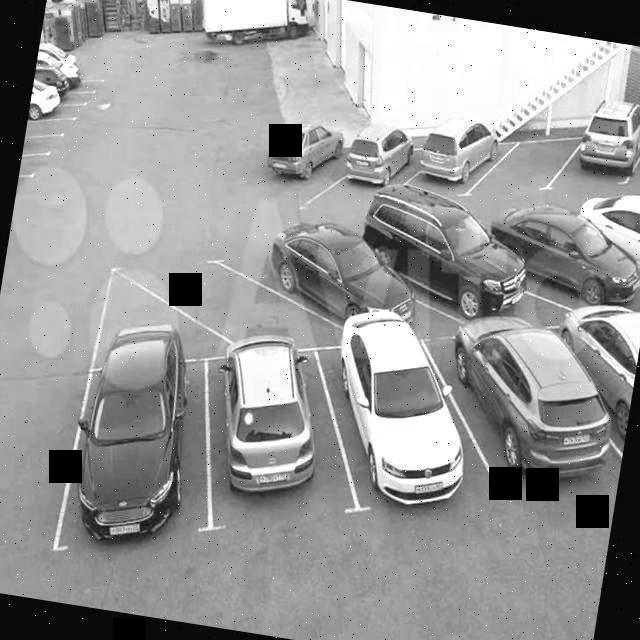occupied: (206, 205, 497, 394), (406, 278, 626, 524), (311, 324, 507, 516), (185, 337, 365, 533), (44, 354, 216, 552), (291, 136, 465, 207), (391, 143, 521, 200)
vacant: (103, 214, 378, 412), (459, 134, 597, 196), (25, 115, 80, 140), (21, 134, 68, 158), (18, 152, 54, 178)
